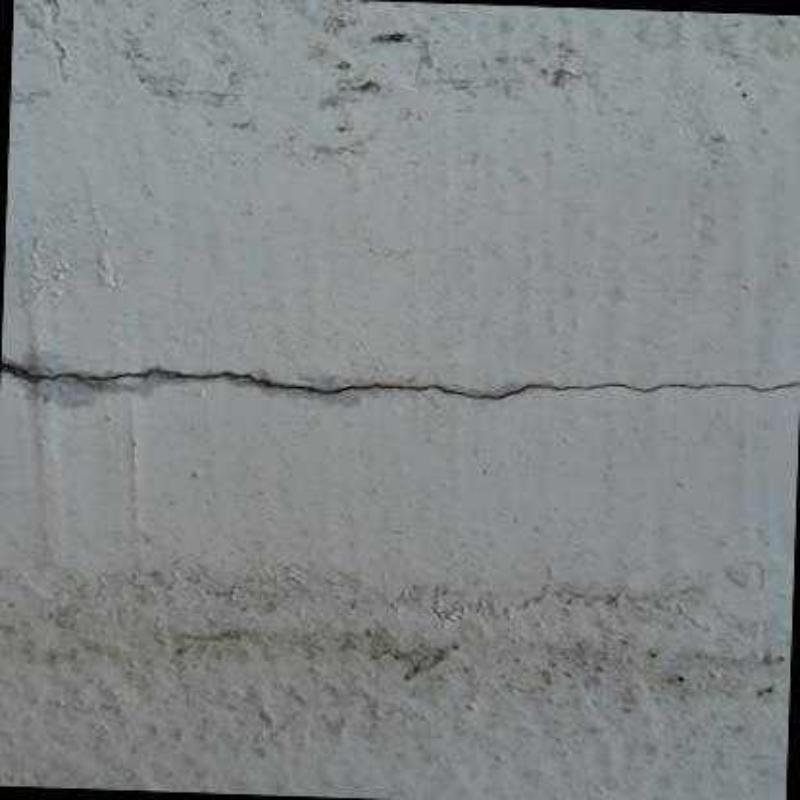crack: (2, 359, 799, 402)
